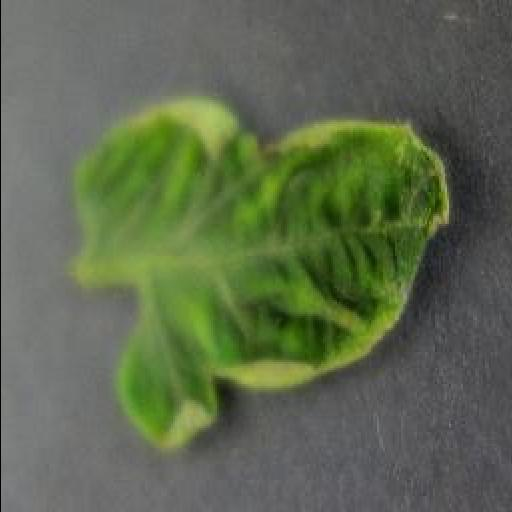disease_tomato: (70, 96, 452, 450)
